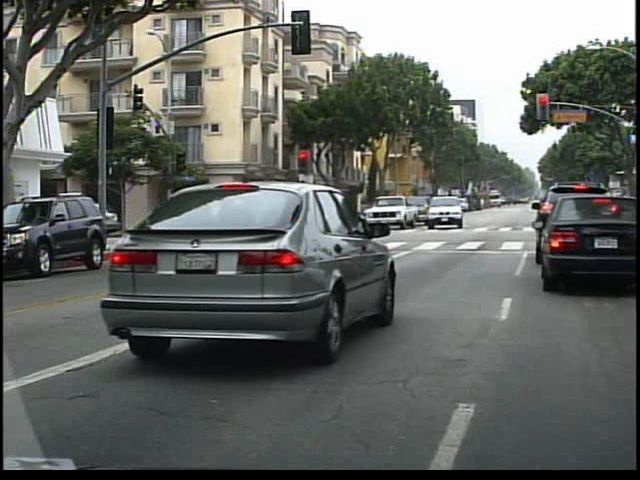person: (190, 191, 208, 238), (210, 193, 228, 234)
